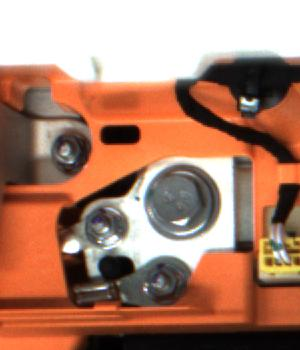nut_b: (147, 159, 225, 245)
screw_s: (79, 197, 130, 246), (141, 264, 186, 302), (50, 130, 87, 176)
